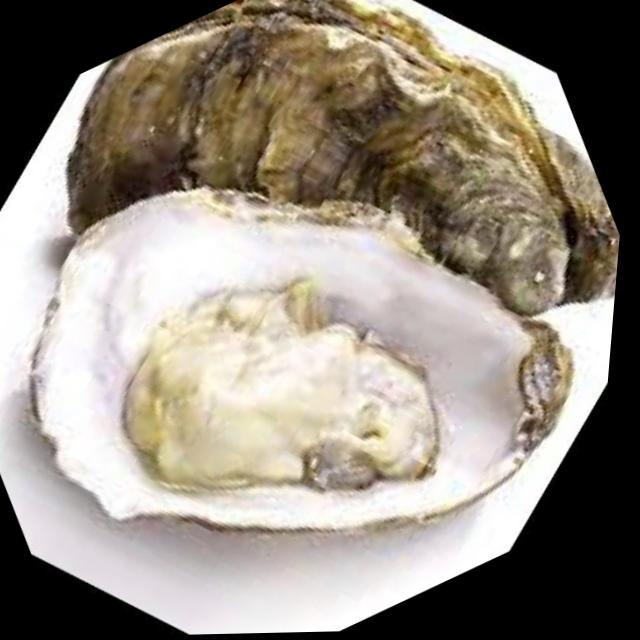Oyster-Indeterminate: (66, 0, 620, 321)
Oyster-Open: (27, 188, 575, 534)
